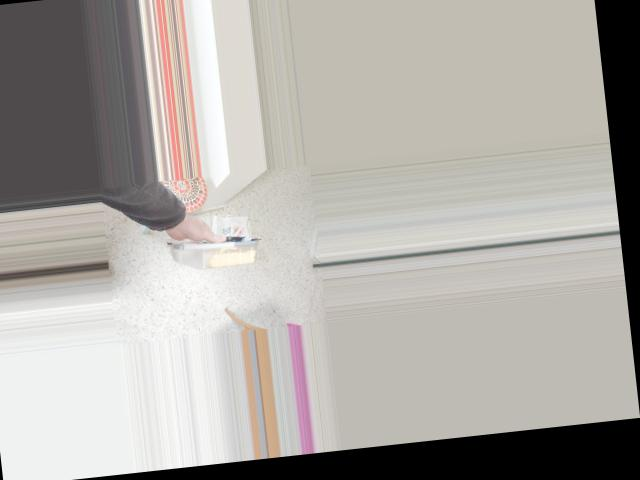cheese: (147, 192, 256, 297)
